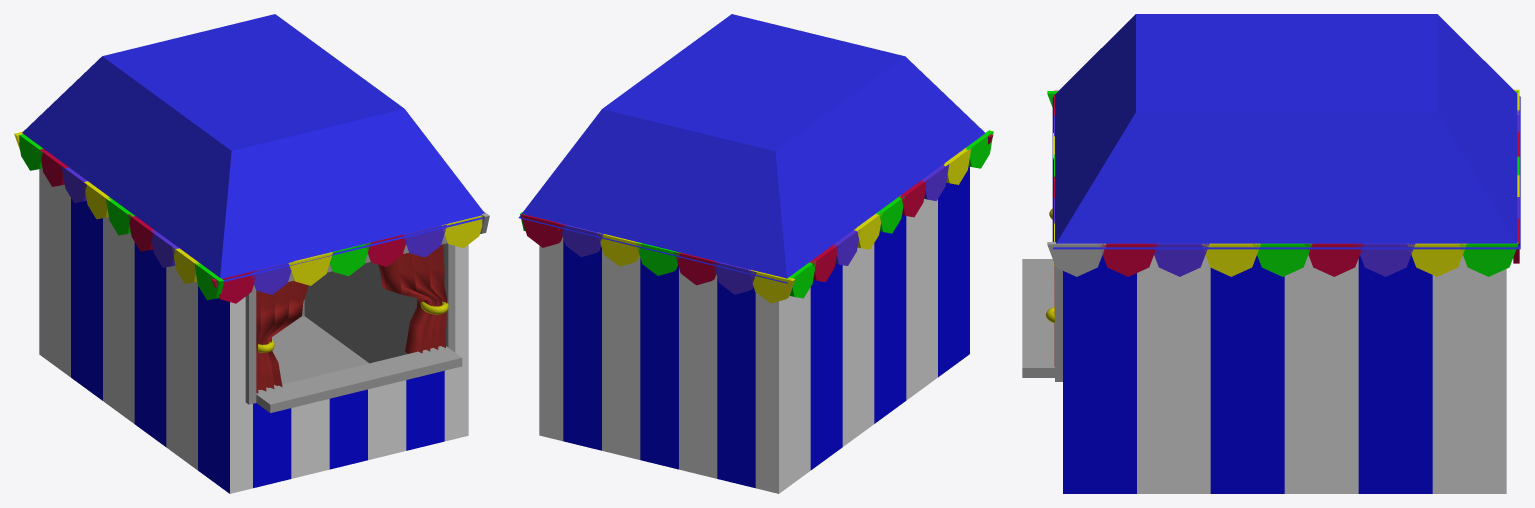
Rendered from TeatroAzul2.fbx.
The picture shows the model from 3 angles, left to right: view 1: azimuth 30°, elevation 25°; view 2: azimuth 150°, elevation 25°; view 3: azimuth 270°, elevation 25°; orthographic projection. The views are drawn at different scales.
Parts seen in each view (by area): view 1: Techo1, Escenario, Fondo, R_Curtain, L_Curtain, pCylinder30, pCylinder31, pCylinder33, pCylinder29, pCylinder32, pCylinder34, pCylinder28 (+9 smaller); view 2: Escenario, Techo1, pCylinder27, pCylinder21, pCylinder24, pCylinder25, pCylinder26, pCylinder23, pCylinder22, pCylinder16, pCylinder14, pCylinder18 (+6 smaller); view 3: Escenario, Techo1, pCylinder1, pCylinder9, pCylinder4, pCylinder2, pCylinder6, pCylinder8, pCylinder5, pCylinder7, pCylinder3.
Boxes of the visible parts, box(x1,y1,x2,y2) form: Techo1: box(22, 14, 484, 281); Escenario: box(39, 168, 468, 493); Fondo: box(258, 244, 444, 390); R_Curtain: box(378, 243, 446, 353); L_Curtain: box(256, 281, 308, 393); pCylinder30: box(288, 252, 332, 285); pCylinder31: box(403, 224, 446, 257); pCylinder33: box(326, 242, 370, 276); pCylinder29: box(250, 261, 293, 294); pCylinder32: box(441, 215, 482, 248); pCylinder34: box(365, 235, 406, 266); pCylinder28: box(211, 270, 257, 303); Escenario: box(539, 166, 969, 493); Techo1: box(518, 14, 985, 283); pCylinder27: box(749, 270, 795, 303); pCylinder21: box(520, 214, 565, 247); pCylinder24: box(636, 242, 680, 275); pCylinder25: box(674, 252, 718, 285); pCylinder26: box(713, 261, 756, 294); pCylinder23: box(597, 232, 641, 266); pCylinder22: box(559, 223, 603, 257); pCylinder16: box(809, 244, 838, 282); pCylinder14: box(876, 195, 904, 233); pCylinder18: box(899, 180, 926, 217); Escenario: box(1022, 255, 1506, 493); Techo1: box(1052, 14, 1520, 249); pCylinder1: box(1047, 242, 1106, 276); pCylinder9: box(1459, 242, 1518, 276); pCylinder4: box(1202, 243, 1260, 276); pCylinder2: box(1099, 243, 1157, 276); pCylinder6: box(1305, 243, 1363, 276); pCylinder8: box(1407, 243, 1466, 276); pCylinder5: box(1253, 243, 1312, 276); pCylinder7: box(1356, 243, 1415, 276); pCylinder3: box(1151, 243, 1209, 276).
Bounding box in the file's own units: 15.98 × 17.42 × 21.66.
